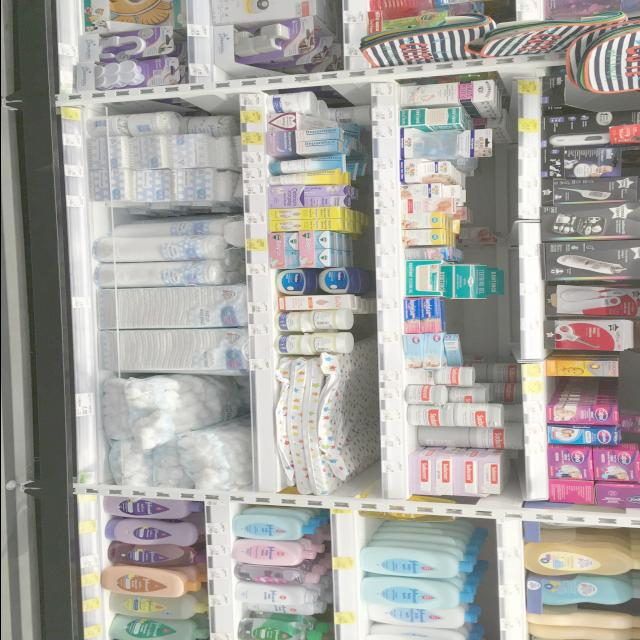empty_space: (448, 303, 490, 329), (555, 378, 617, 394), (363, 524, 441, 532)
